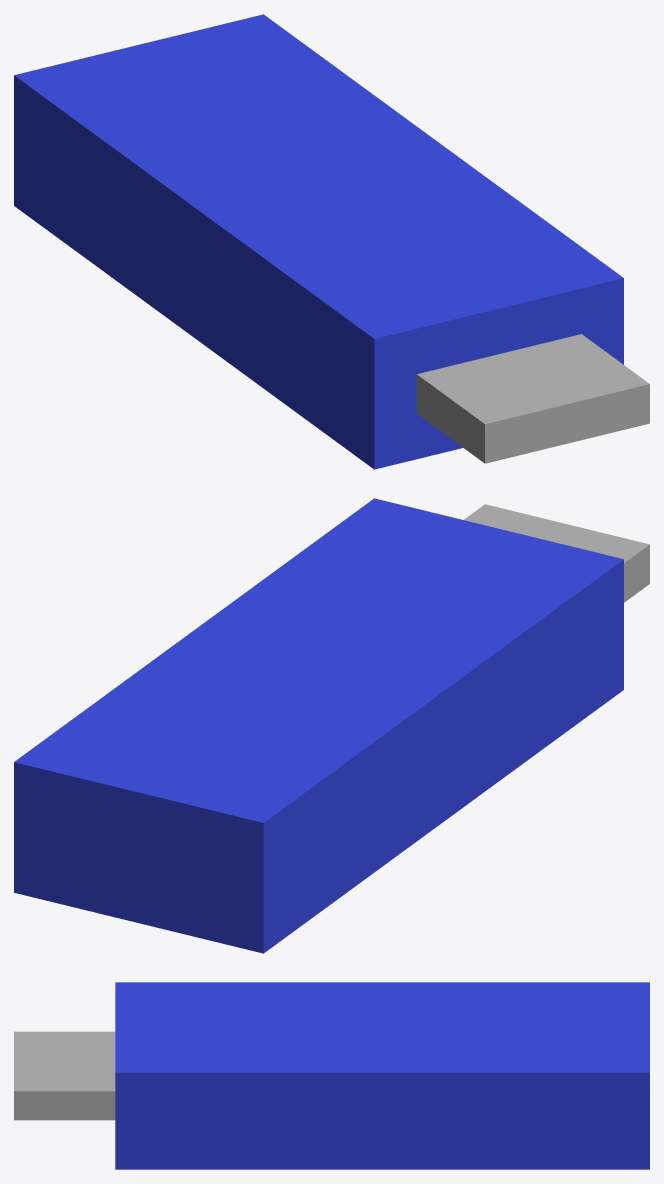
File: clef.fbx
The picture shows the model from 3 angles, top to bottom: view 1: azimuth 30°, elevation 25°; view 2: azimuth 150°, elevation 25°; view 3: azimuth 270°, elevation 25°; orthographic projection. The views are drawn at different scales.
Parts seen in each view (by area): view 1: Cube; view 2: Cube; view 3: Cube.
Part boxes in pixels (<box>): Cube: <box>14,14,649,469</box>; Cube: <box>14,498,649,953</box>; Cube: <box>14,982,649,1169</box>.
Size of the model in its own units: 0.02 by 0.01 by 0.0595.
